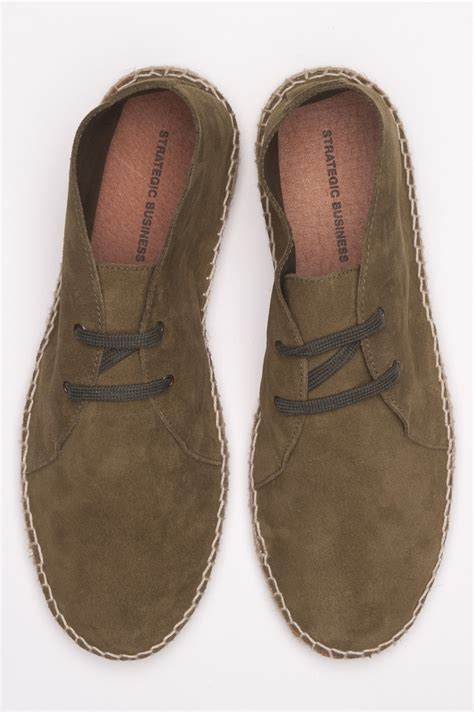gamuza: (21, 68, 455, 660)
